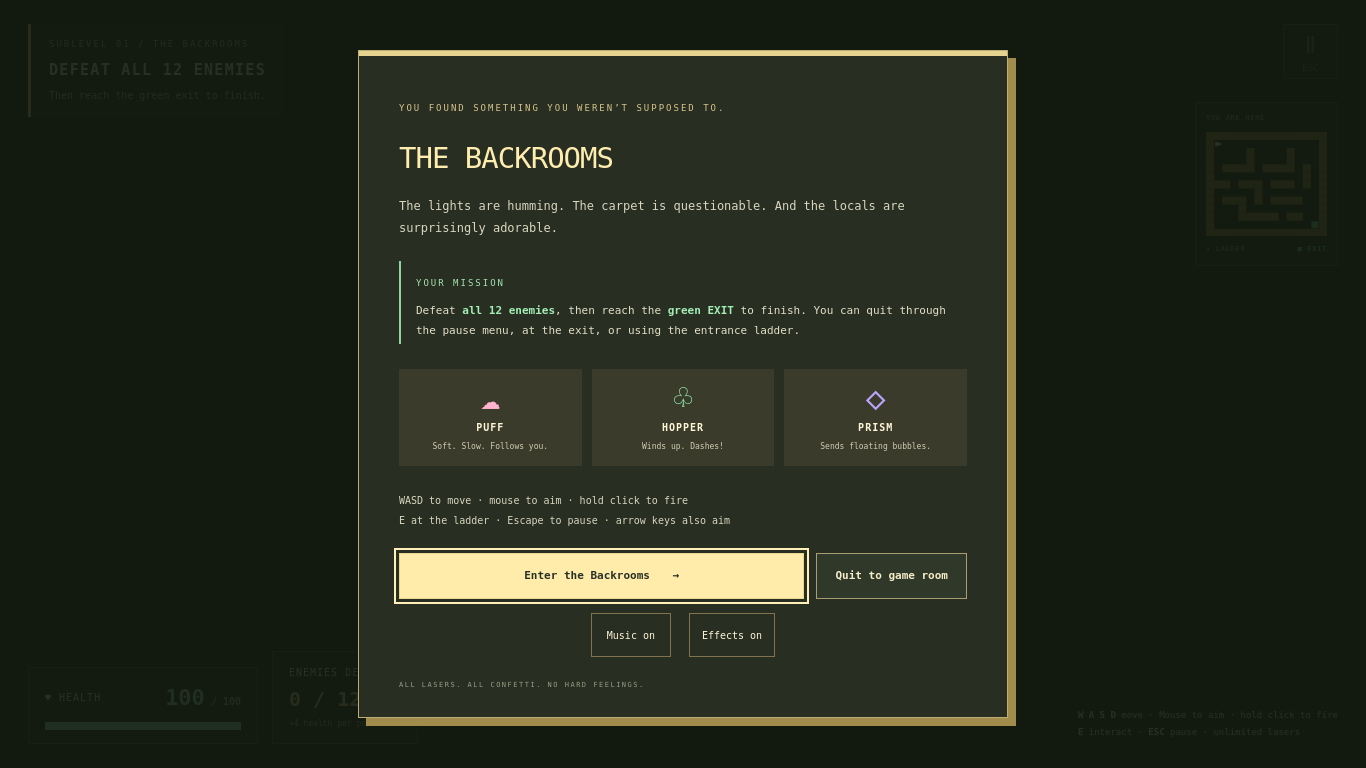
Test: fire presses between animation frames › does not show a locked exit when the final enemy is defeated in the doorway
Step 1. Click the button "Enter the Backrooms →" → x=602, y=576, box [399, 552, 804, 599]
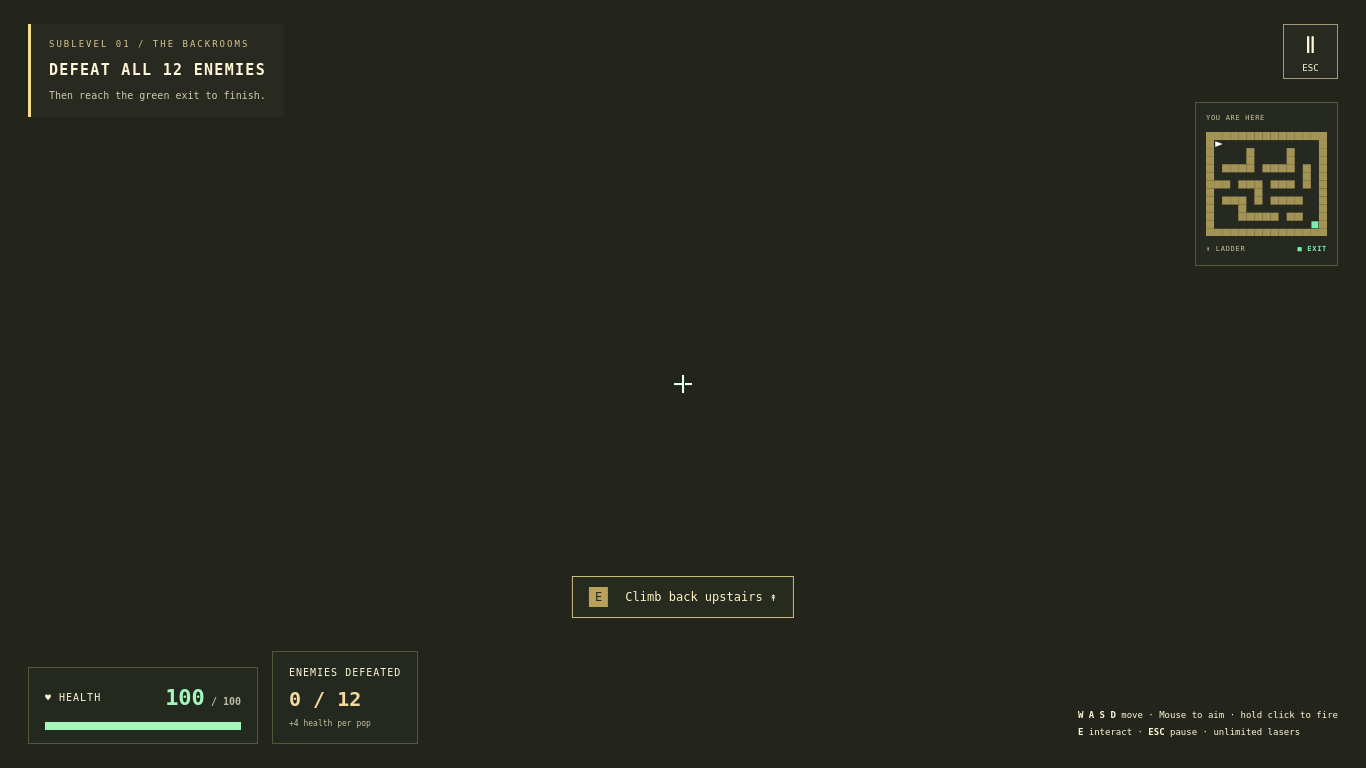
Step 2. Press Space
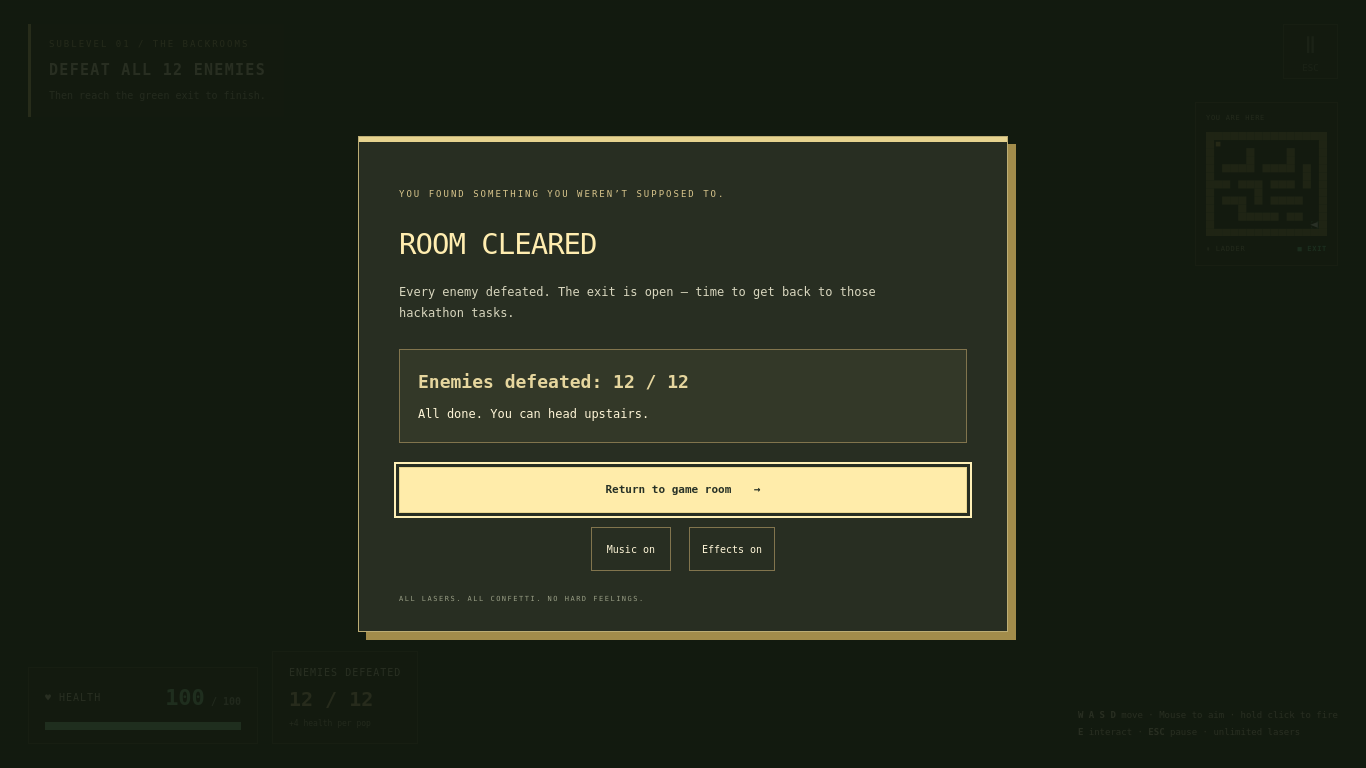
Result: the heading "ROOM CLEARED" is shown at [399, 227, 596, 261]
